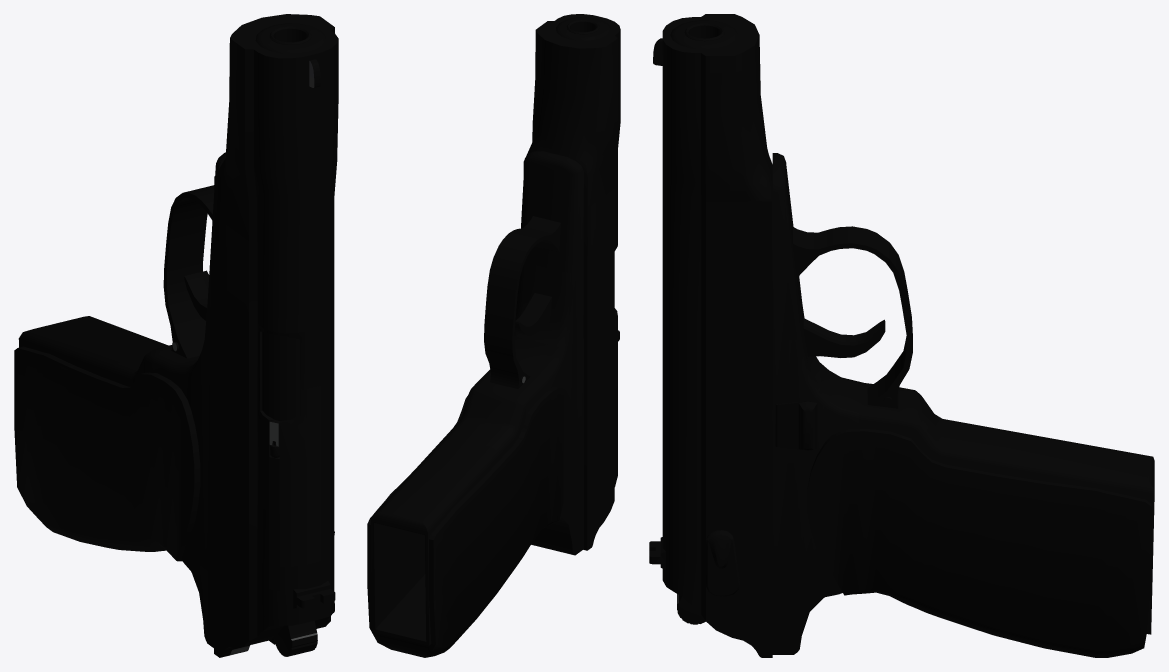
Rendered from MakarovPM.fbx.
3 renders of one model, left to right at view 1: azimuth 30°, elevation 25°; view 2: azimuth 150°, elevation 25°; view 3: azimuth 270°, elevation 25°, orthographic. The views are drawn at different scales.
Parts seen in each view (by area): view 1: asset_MakarovPM.001; view 2: asset_MakarovPM.001; view 3: asset_MakarovPM.001.
Boxes of the visible parts, bbox=[...] form: asset_MakarovPM.001: bbox=[14, 14, 338, 657]; asset_MakarovPM.001: bbox=[367, 14, 620, 657]; asset_MakarovPM.001: bbox=[649, 14, 1154, 657].
Size of the model in its own units: 0.0153 by 0.1002 by 0.0745.
